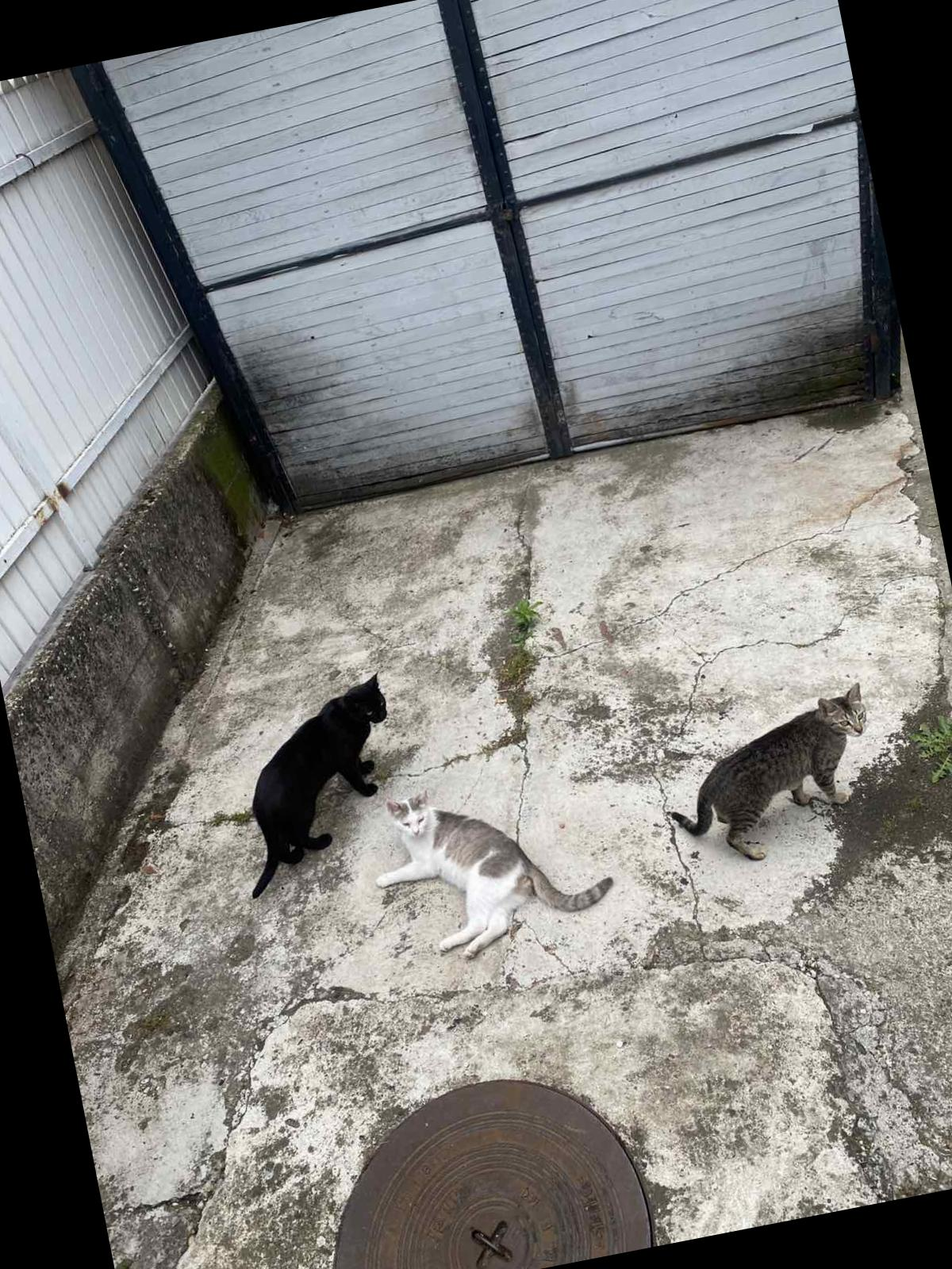macka: (359, 754, 621, 974), (648, 680, 890, 876), (214, 669, 418, 899)
